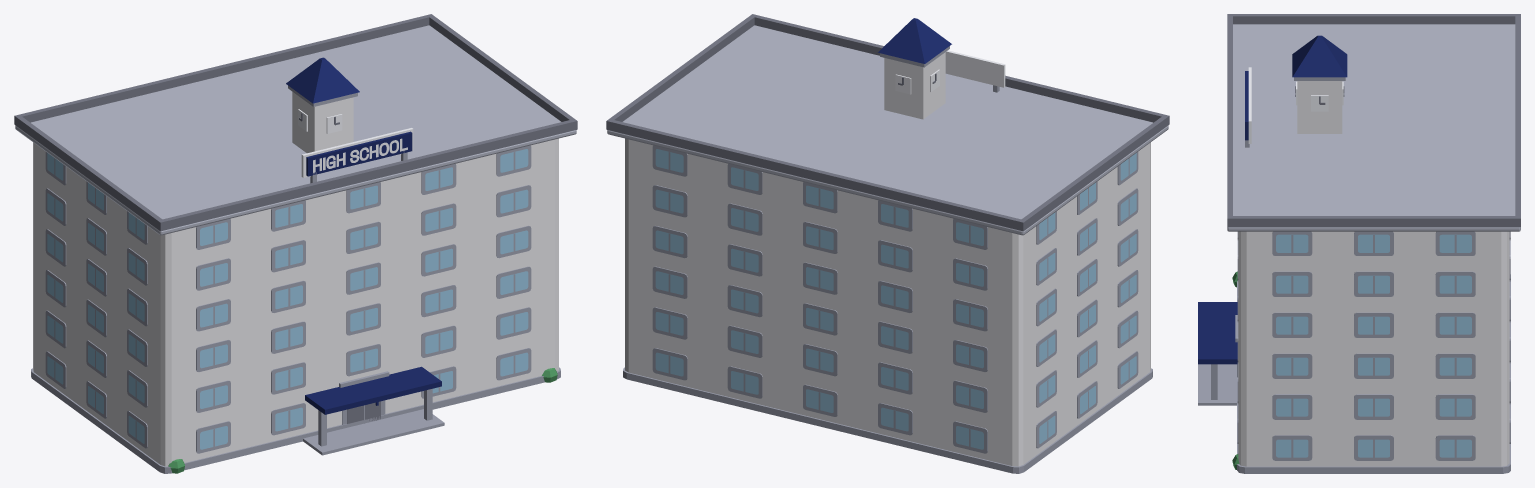
The model's file is high-school-3x2-6f.glb.
3 renders of one model, left to right at view 1: azimuth 30°, elevation 25°; view 2: azimuth 150°, elevation 25°; view 3: azimuth 270°, elevation 25°, orthographic.
Visible parts, largest first — view 1: high-school-3x2-6f; view 2: high-school-3x2-6f; view 3: high-school-3x2-6f.
Boxes of the visible parts, box(x1,y1,x2,y2) form: high-school-3x2-6f: box(14, 14, 577, 473); high-school-3x2-6f: box(606, 14, 1169, 473); high-school-3x2-6f: box(1198, 14, 1520, 473).
Bounding box in the file's own units: 3 × 2.32 × 2.
1 material, 1 textured.
